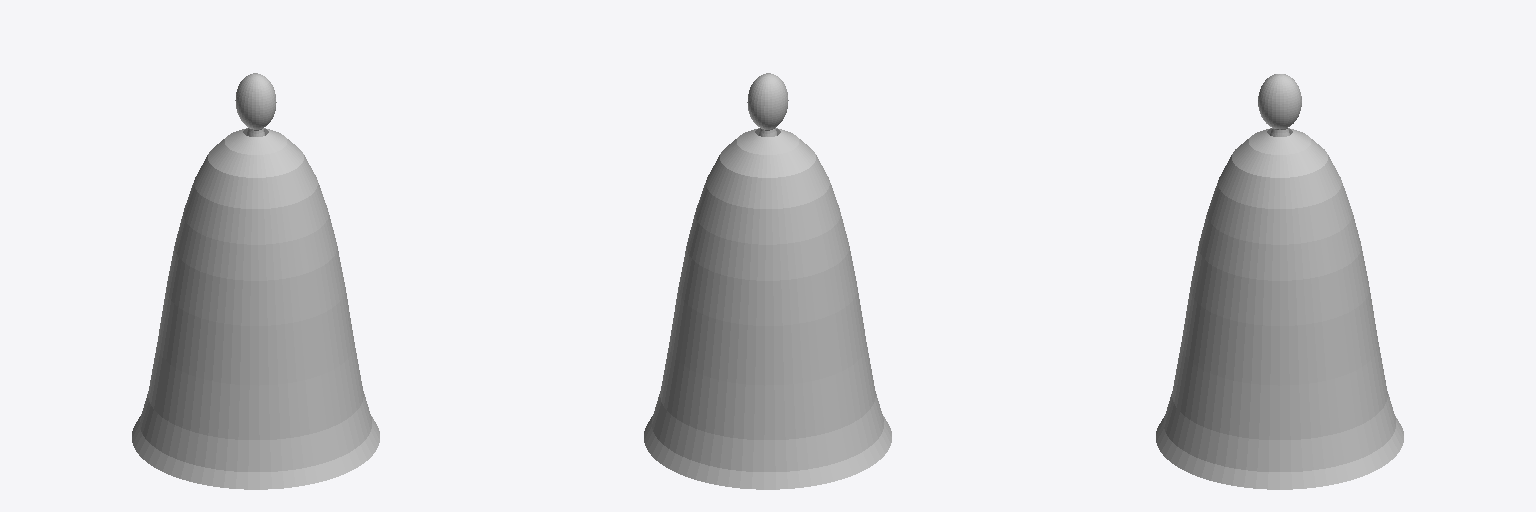
Rendered from francis_old.obj.
3 renders of one model, left to right at view 1: azimuth 30°, elevation 25°; view 2: azimuth 150°, elevation 25°; view 3: azimuth 270°, elevation 25°, orthographic.
Parts seen in each view (by area): view 1: Circle, Sphere; view 2: Circle, Sphere; view 3: Circle, Sphere.
Part boxes in pixels (left/top/right/bottom): Circle: left=132, top=128, right=379, bottom=489; Sphere: left=235, top=73, right=276, bottom=136; Circle: left=644, top=128, right=891, bottom=489; Sphere: left=747, top=73, right=788, bottom=136; Circle: left=1156, top=128, right=1403, bottom=489; Sphere: left=1258, top=74, right=1301, bottom=136.
Bounding box in the file's own units: 3.14 × 5.05 × 3.14.